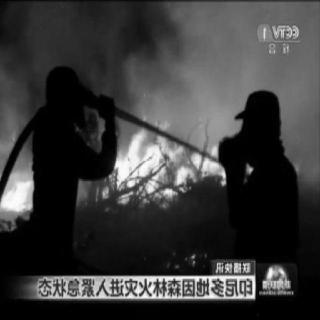Fire: (110, 117, 228, 207)
Smoke: (162, 7, 288, 96)
